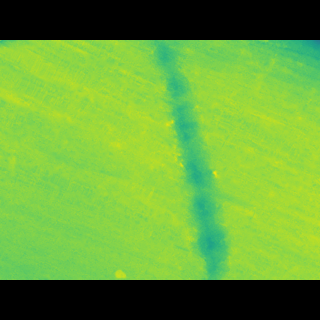Loch: (140, 77, 239, 248)
